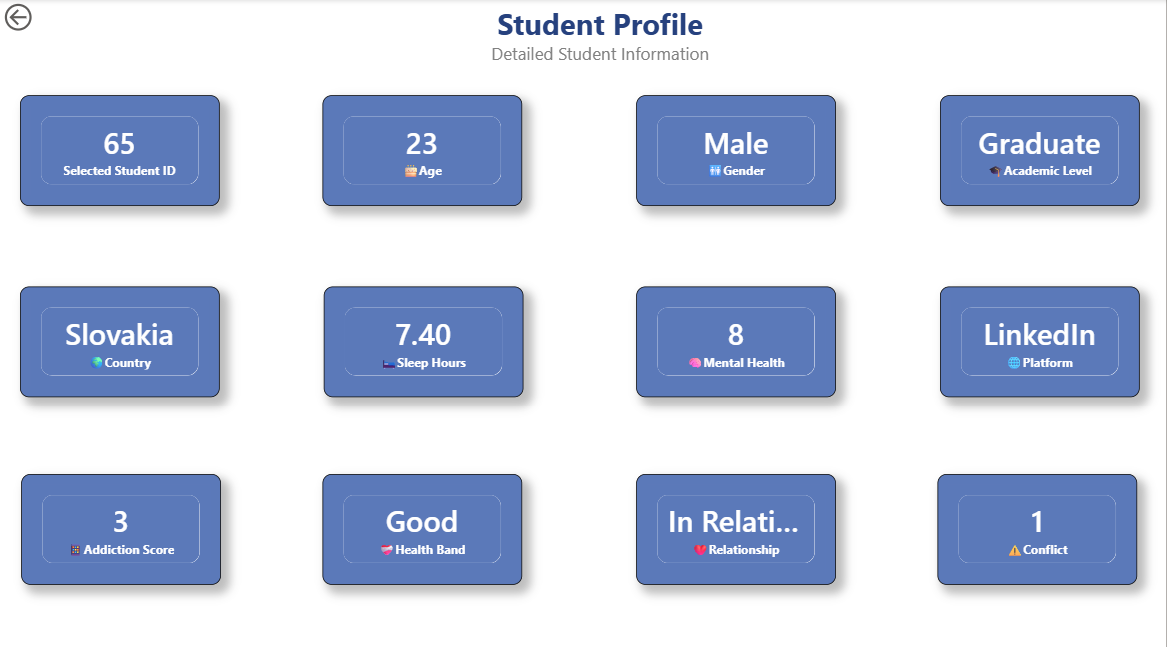

Layout of this report page (visuals, bound fields, positions):
{"tool":"powerbi","page":{"name":"Student Profile ","canvas":[1280,720],"ordinal":5},"visuals":[{"type":"actionButton","box":[0,0,100,40],"z":0},{"type":"cardVisual","fields":{"Data":["_Measures.Selected Student ID"]},"box":[21.4,105.3,219.5,121.4],"z":1000},{"type":"cardVisual","fields":{"Data":["_Measures.🌍Country"]},"box":[21.4,315.9,219.5,121.4],"z":2000},{"type":"cardVisual","fields":{"Data":["_Measures.🎂Age"]},"box":[353.4,105.3,219.5,121.4],"z":3000},{"type":"cardVisual","fields":{"Data":["_Measures.🚻Gender"]},"box":[697.8,105.3,219.5,121.4],"z":4000},{"type":"cardVisual","fields":{"Data":["_Measures.🎓Academic Level"]},"box":[1031.6,105.3,219.5,121.4],"z":5000},{"type":"cardVisual","fields":{"Data":["_Measures.🛏️Sleep Hours"]},"box":[355.2,315.9,219.5,121.4],"z":6000},{"type":"cardVisual","fields":{"Data":["_Measures.🧠Mental Health"]},"box":[697.8,315.9,219.5,121.4],"z":7000},{"type":"textbox","box":[195.7,0,925.3,77.1],"z":8000},{"type":"cardVisual","fields":{"Data":["_Measures.📱Addiction Score"]},"box":[23.2,521.1,219.5,121.4],"z":9000},{"type":"cardVisual","fields":{"Data":["_Measures.❤️🩹Health Band"]},"box":[353.4,521.1,219.5,121.4],"z":10000},{"type":"cardVisual","fields":{"Data":["_Measures.❤️Relationship"]},"box":[697.8,521.1,219.5,121.4],"z":11000},{"type":"cardVisual","fields":{"Data":["_Measures.⚠️Conflict"]},"box":[1029.8,521.1,219.5,121.4],"z":12000},{"type":"cardVisual","fields":{"Data":["_Measures.🌐Platform"]},"box":[1031.6,315.9,219.5,121.4],"z":13000}]}

Visuals, with their boxes in screenshot pixels (x1, y1, x2, y2), scaled from the page's 1280x720 canvas onto the 1167x647 screenshot:
actionButton: left=0, top=0, right=91, bottom=36
cardVisual - _Measures.Selected Student ID: left=20, top=95, right=220, bottom=204
cardVisual - _Measures.🌍Country: left=20, top=284, right=220, bottom=393
cardVisual - _Measures.🎂Age: left=322, top=95, right=522, bottom=204
cardVisual - _Measures.🚻Gender: left=636, top=95, right=836, bottom=204
cardVisual - _Measures.🎓Academic Level: left=941, top=95, right=1141, bottom=204
cardVisual - _Measures.🛏️Sleep Hours: left=324, top=284, right=524, bottom=393
cardVisual - _Measures.🧠Mental Health: left=636, top=284, right=836, bottom=393
textbox: left=178, top=0, right=1022, bottom=69
cardVisual - _Measures.📱Addiction Score: left=21, top=468, right=221, bottom=577
cardVisual - _Measures.❤️🩹Health Band: left=322, top=468, right=522, bottom=577
cardVisual - _Measures.❤️Relationship: left=636, top=468, right=836, bottom=577
cardVisual - _Measures.⚠️Conflict: left=939, top=468, right=1139, bottom=577
cardVisual - _Measures.🌐Platform: left=941, top=284, right=1141, bottom=393
